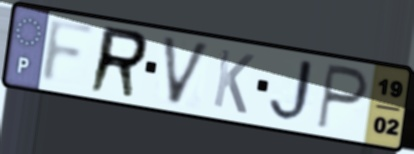F: (37, 17, 101, 88)
J: (267, 57, 322, 125)
K: (210, 46, 257, 117)
P: (313, 61, 371, 134)
R: (85, 23, 152, 102)
V: (159, 34, 213, 109)
